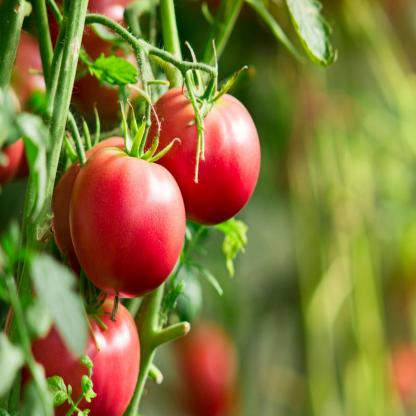---: (60, 136, 191, 306), (144, 65, 270, 227)
